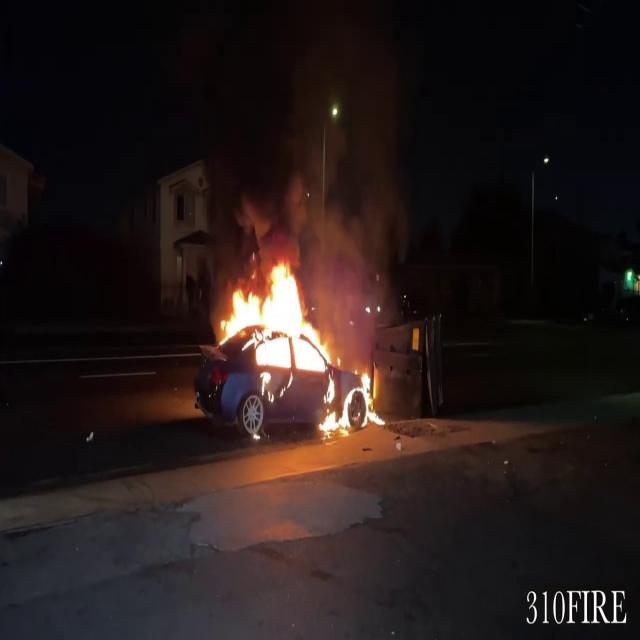Fire: (212, 254, 384, 436)
Smoke: (204, 1, 416, 263)
